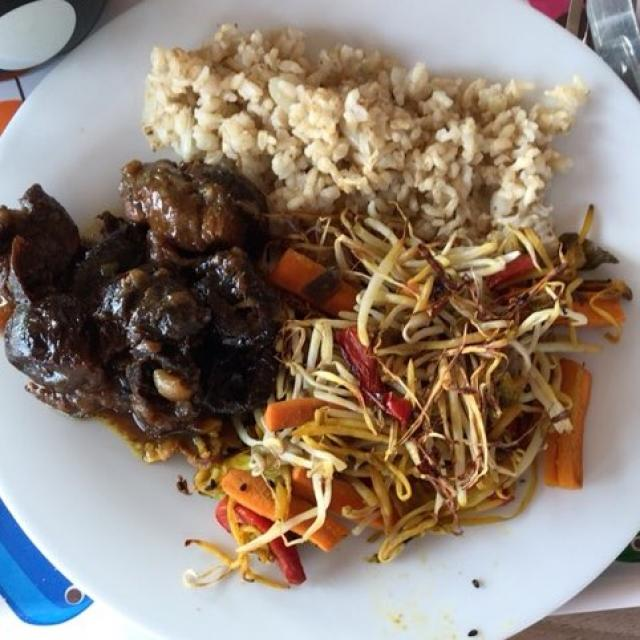carrot-raw: (222, 355, 596, 557)
mungbean-sprouts: (208, 203, 614, 534)
rice-whole-grain: (151, 29, 586, 238)
